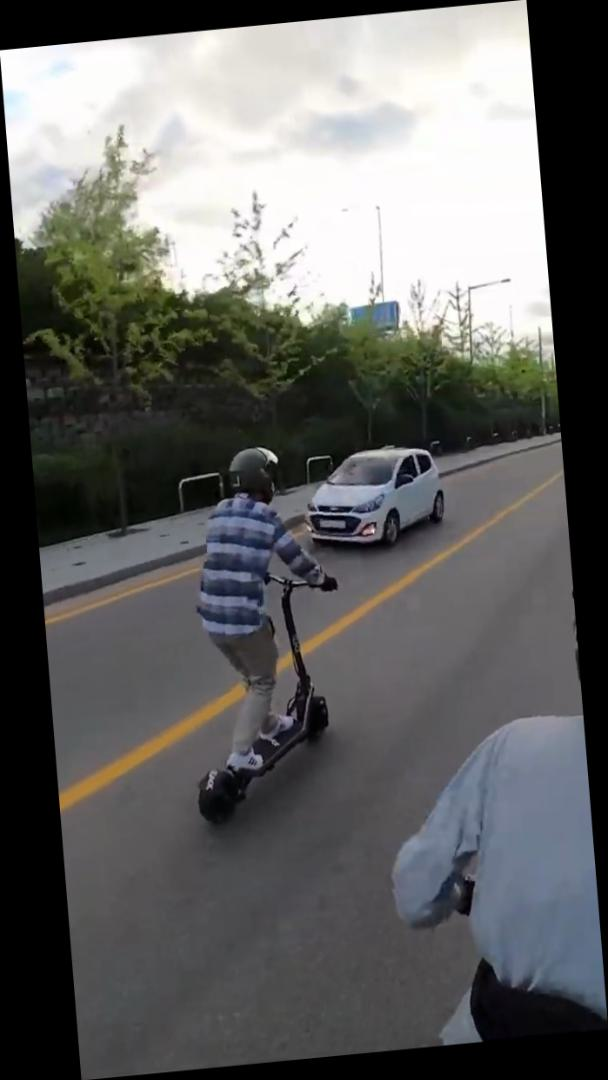helmet: (165, 436, 360, 830)
